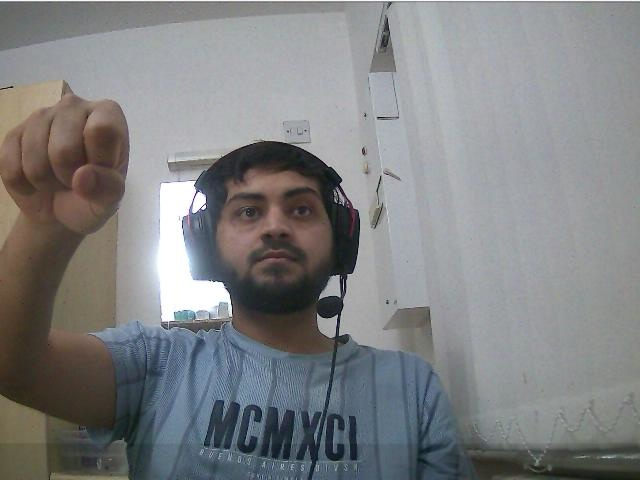hold: (2, 101, 130, 236)
